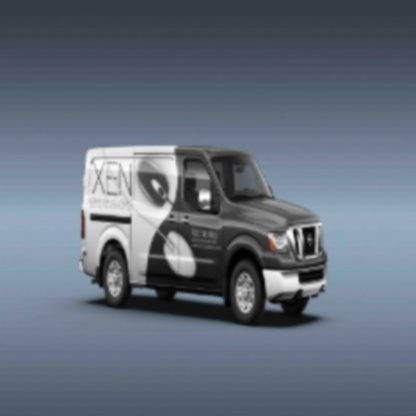Vehicle: (78, 141, 328, 328)
